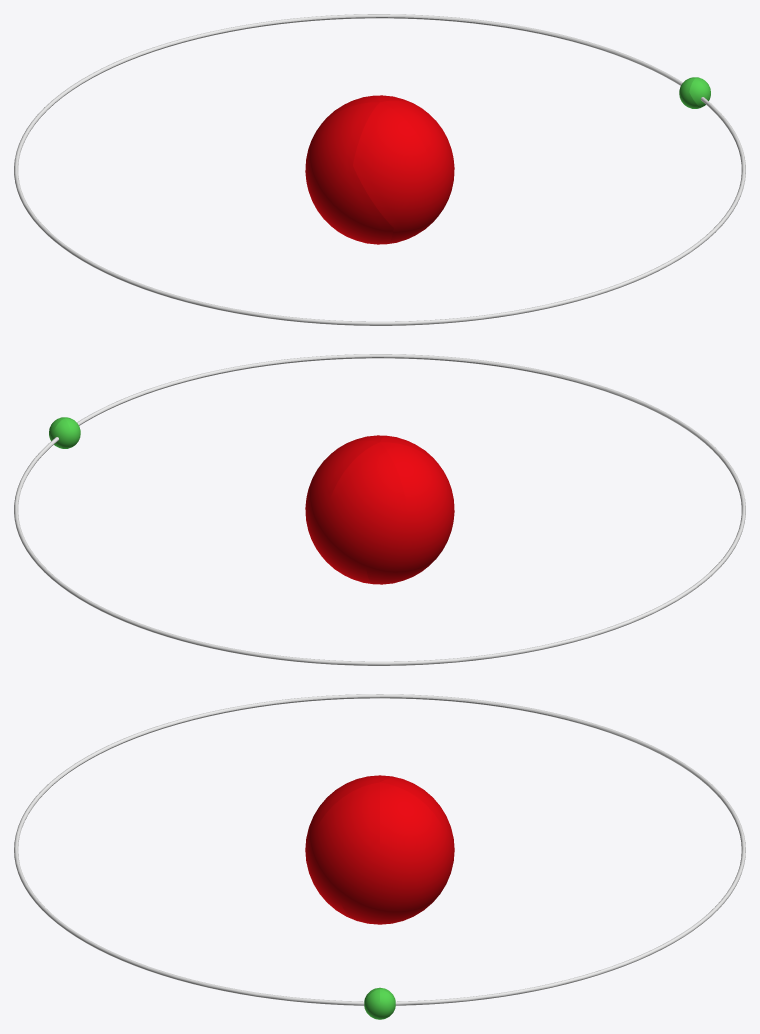
Rendered from element_001_hydrogen.glb.
3 renders of one model, top to bottom at view 1: azimuth 30°, elevation 25°; view 2: azimuth 150°, elevation 25°; view 3: azimuth 270°, elevation 25°, orthographic.
Parts seen in each view (by area): view 1: element_001_hydrogen_nucleus, hydrogen_orbital_1_3; view 2: element_001_hydrogen_nucleus, hydrogen_orbital_1_3; view 3: element_001_hydrogen_nucleus, hydrogen_orbital_1_3.
Part boxes in pixels (x1,y1,x2,y2): element_001_hydrogen_nucleus: (305,95,454,244); hydrogen_orbital_1_3: (14,14,745,325); element_001_hydrogen_nucleus: (305,435,454,584); hydrogen_orbital_1_3: (14,354,745,665); element_001_hydrogen_nucleus: (305,775,454,924); hydrogen_orbital_1_3: (14,694,745,1019).
Size of what is drawn, in the model's own units: 0.5607 by 0.1123 by 0.5502.
